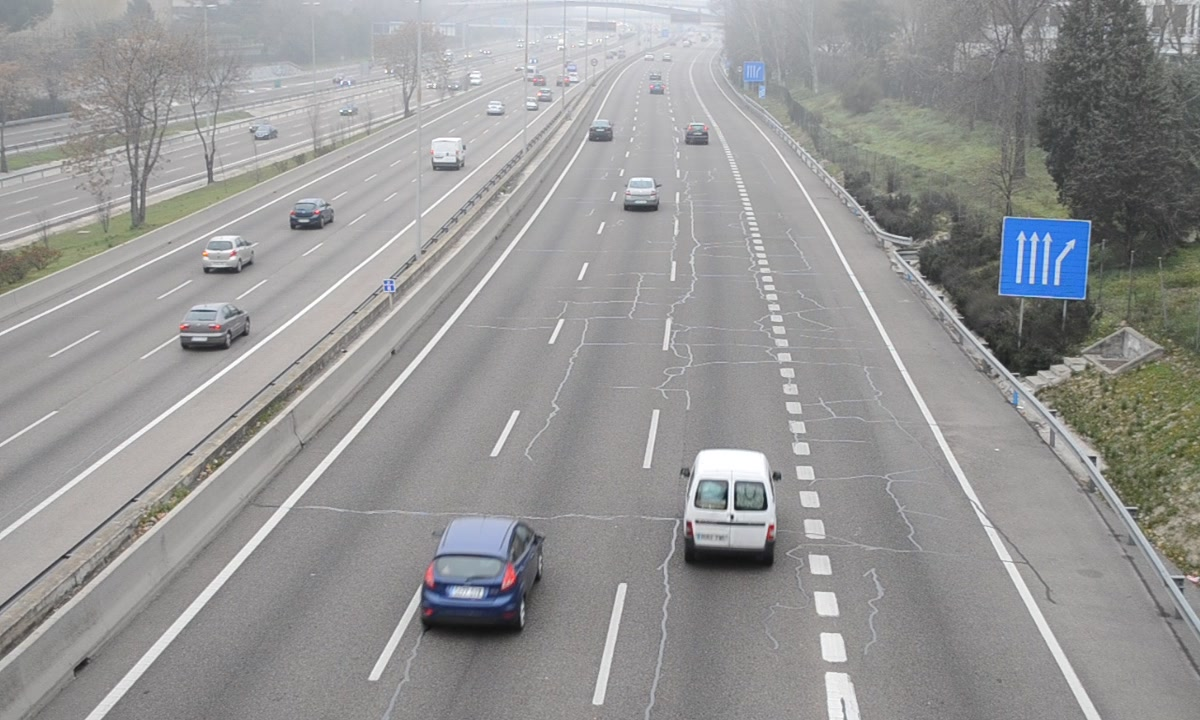car: (419, 517, 544, 629), (624, 176, 660, 208), (587, 118, 614, 144), (684, 122, 710, 147)
van: (687, 449, 778, 561)
